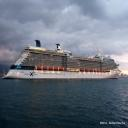cruises: (2, 40, 123, 82)
